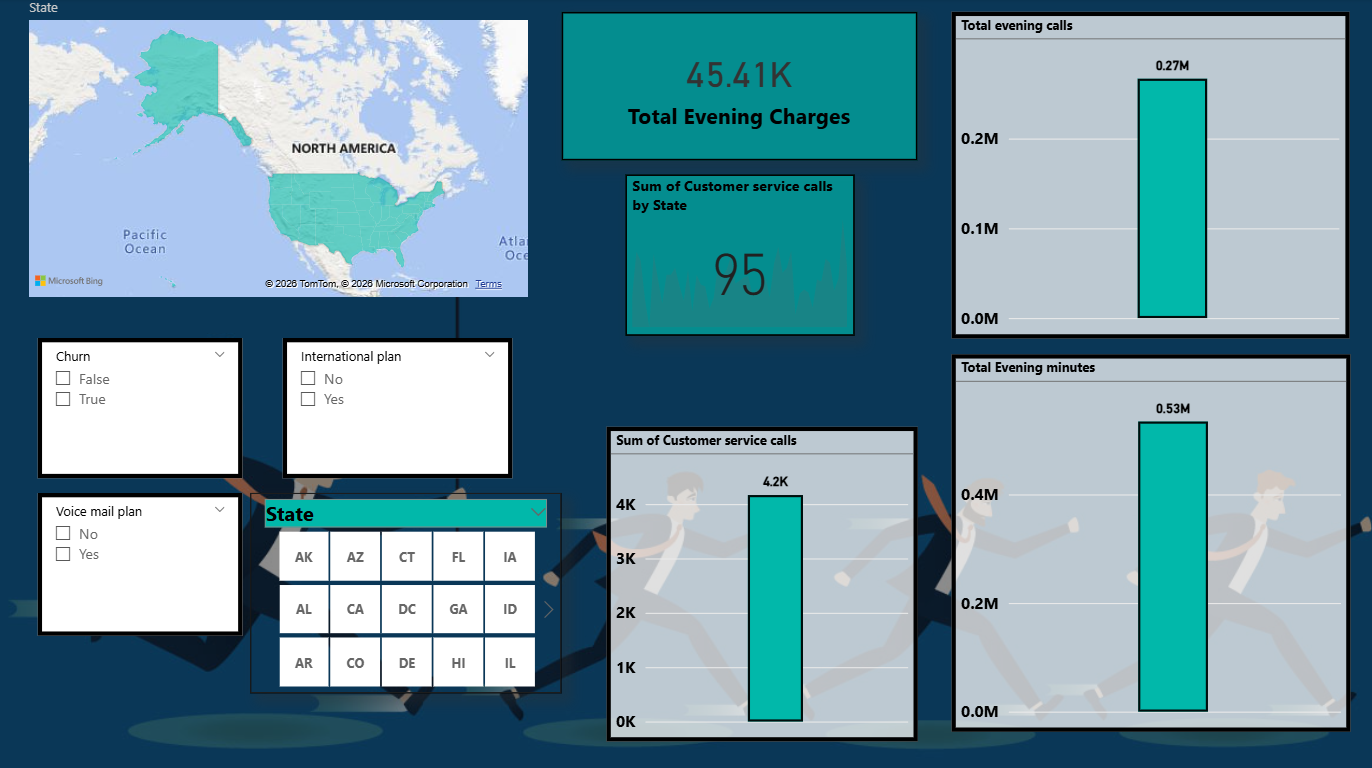

Layout of this report page (visuals, bound fields, positions):
{"tool":"powerbi","page":{"name":"Evening Calls","canvas":[1280,720],"ordinal":1},"visuals":[{"type":"clusteredColumnChart","title":"Total evening calls","fields":{"Y":["Sum(churn-bigml-80.Total eve calls)"]},"box":[886.2,12.5,370,303.8],"z":0},{"type":"clusteredColumnChart","title":"Total Evening minutes","fields":{"Y":["Sum(churn-bigml-80.Total eve minutes)"]},"box":[886.2,331.2,371.2,351.2],"z":1000},{"type":"card","fields":{"Values":["churn-bigml-80.Total Evening Charges"]},"box":[523.8,12.5,331.2,138.8],"z":2000},{"type":"slicer","fields":{"Values":["churn-bigml-80.State"]},"box":[233.7,460.5,289.5,186],"z":3000},{"type":"filledMap","fields":{"Category":["churn-bigml-80.State"]},"box":[23.3,0,474.4,282.6],"z":4000},{"type":"slicer","fields":{"Values":["churn-bigml-80.Churn"]},"box":[36,316.3,190.7,130.2],"z":5000},{"type":"slicer","fields":{"Values":["churn-bigml-80.International plan"]},"box":[264,316.3,214,130.2],"z":6000},{"type":"slicer","fields":{"Values":["churn-bigml-80.Voice mail plan"]},"box":[36,460.5,190.7,132.6],"z":7000},{"type":"clusteredColumnChart","fields":{"Y":["Sum(churn-bigml-80.Customer service calls)"]},"box":[565.1,398.8,289.5,293],"z":8000},{"type":"kpi","fields":{"Indicator":["Sum(churn-bigml-80.Customer service calls)"],"TrendLine":["churn-bigml-80.State"]},"box":[582.6,164,214,150],"z":8001}]}

Visuals, with their boxes in screenshot pixels (x1, y1, x2, y2), scaled from the page's 1280x720 canvas onto the 1372x768 screenshot:
"Total evening calls" clusteredColumnChart: 950/13/1346/337
"Total Evening minutes" clusteredColumnChart: 950/353/1348/728
card - churn-bigml-80.Total Evening Charges: 561/13/916/161
slicer - churn-bigml-80.State: 250/491/561/690
filledMap - churn-bigml-80.State: 25/0/533/301
slicer - churn-bigml-80.Churn: 39/337/243/476
slicer - churn-bigml-80.International plan: 283/337/512/476
slicer - churn-bigml-80.Voice mail plan: 39/491/243/633
clusteredColumnChart - Sum(churn-bigml-80.Customer service calls): 606/425/916/738
kpi - Sum(churn-bigml-80.Customer service calls) x churn-bigml-80.State: 624/175/854/335
